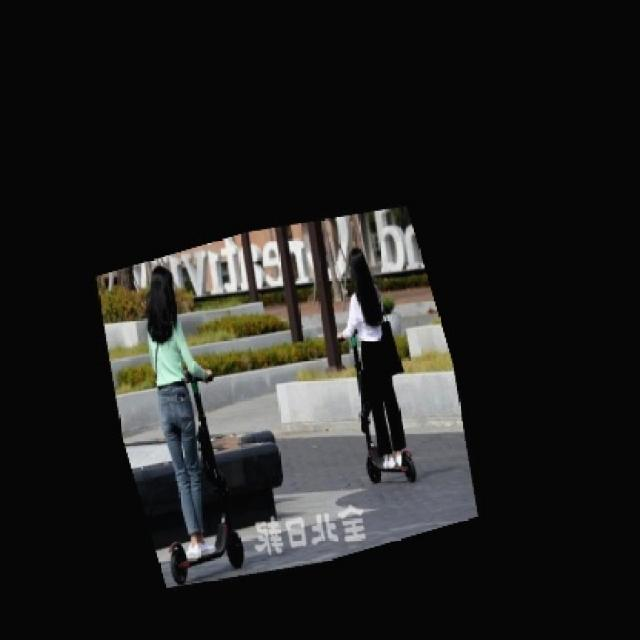bare_head: (142, 267, 189, 323), (340, 249, 387, 292)
human: (133, 266, 215, 553), (334, 246, 404, 449)
kickboard: (162, 527, 270, 582), (346, 434, 428, 478)
